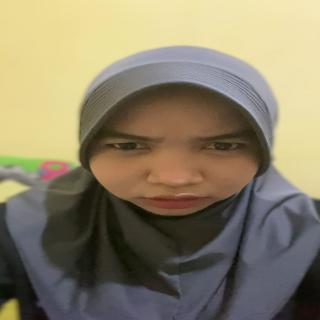Marah: (83, 80, 271, 220)
